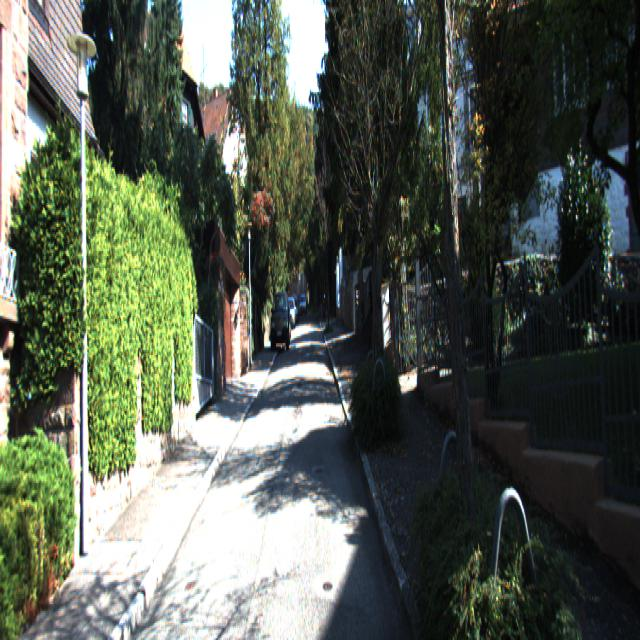Car: (270, 288, 290, 352), (286, 296, 297, 330)
